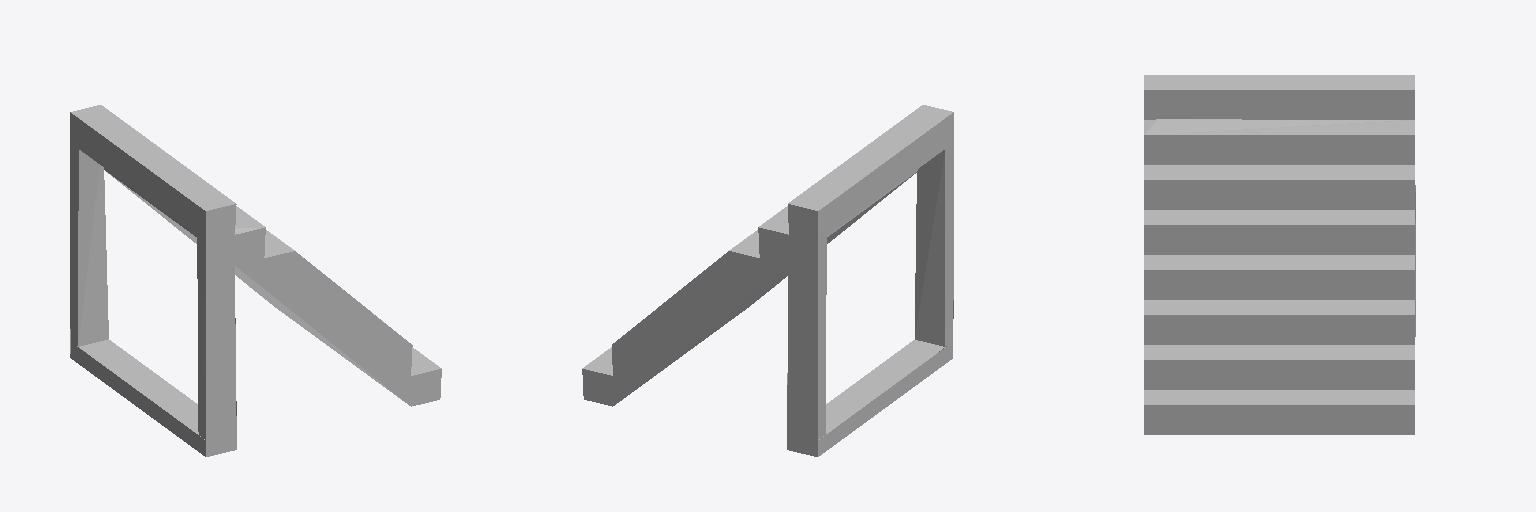
File: foundation_stairs.obj
The picture shows the model from 3 angles: view 1: azimuth 30°, elevation 25°; view 2: azimuth 150°, elevation 25°; view 3: azimuth 270°, elevation 25°; orthographic projection.
Visible parts, largest first — view 1: Cube_Cube.001; view 2: Cube_Cube.001; view 3: Cube_Cube.001.
Part boxes in pixels (bbox=[...]): Cube_Cube.001: bbox=[70, 105, 441, 456]; Cube_Cube.001: bbox=[582, 105, 953, 456]; Cube_Cube.001: bbox=[1144, 75, 1415, 434].
Size of the model in its own units: 2.01 by 2.01 by 2.